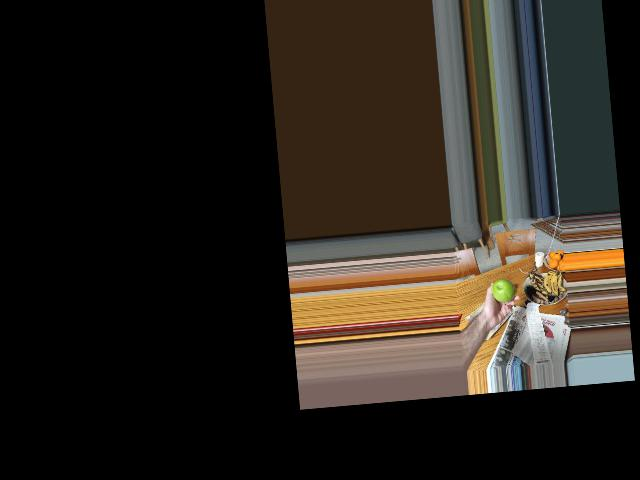apple: (490, 276, 515, 304)
